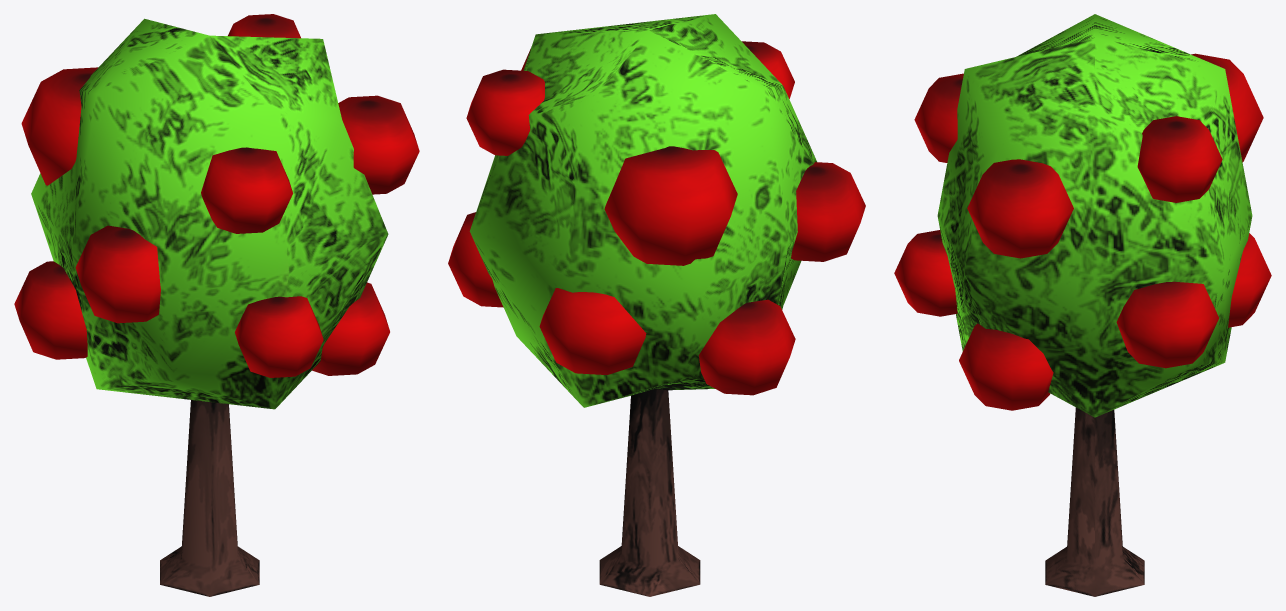
File: resourceFood.FBX
The picture shows the model from 3 angles, left to right: view 1: azimuth 30°, elevation 25°; view 2: azimuth 150°, elevation 25°; view 3: azimuth 270°, elevation 25°; orthographic projection.
Visible parts, largest first — view 1: resourceFood; view 2: resourceFood; view 3: resourceFood.
Part boxes in pixels (box(x1,y1,x2,y2)): resourceFood: box(14, 14, 419, 596); resourceFood: box(448, 14, 865, 596); resourceFood: box(894, 14, 1271, 596).
Bounding box in the file's own units: 102 × 156 × 100.
